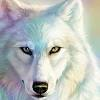Lobo: (1, 1, 87, 98)
